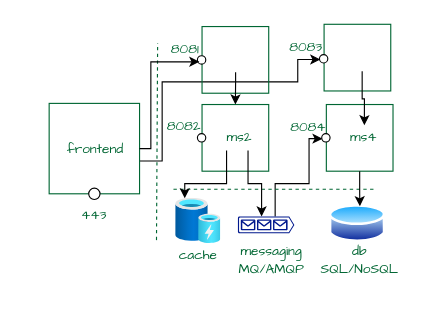
The diagram is 446 pixels wide and 310 high, and some of its shapes have lost their labels. Each missing label, with the centre of its shape:
"ms1" belongs at point (235, 59).
"ms3" belongs at point (357, 57).
